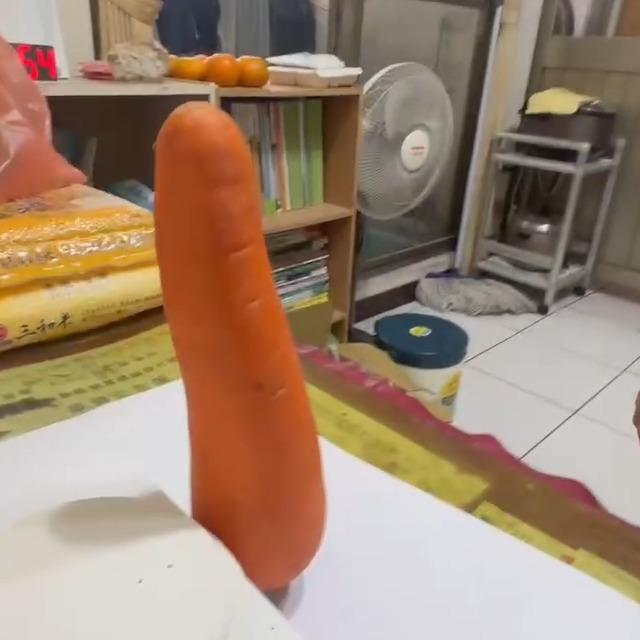carrot: (154, 100, 326, 592)
